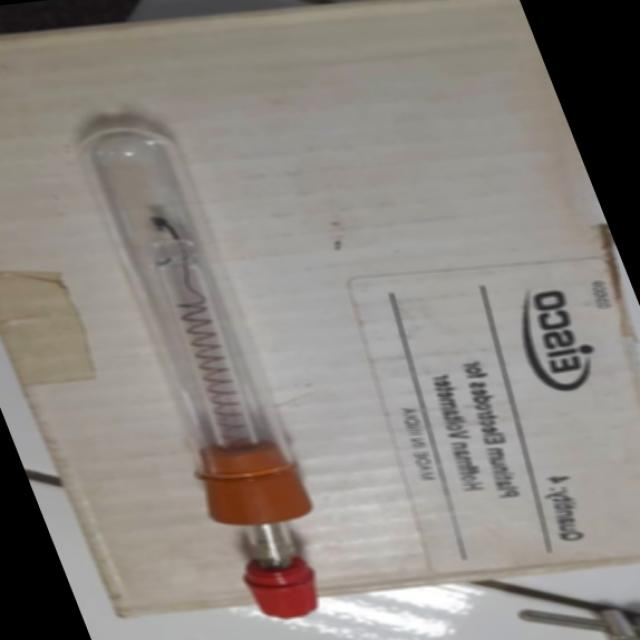Electrode: (51, 118, 378, 629)
